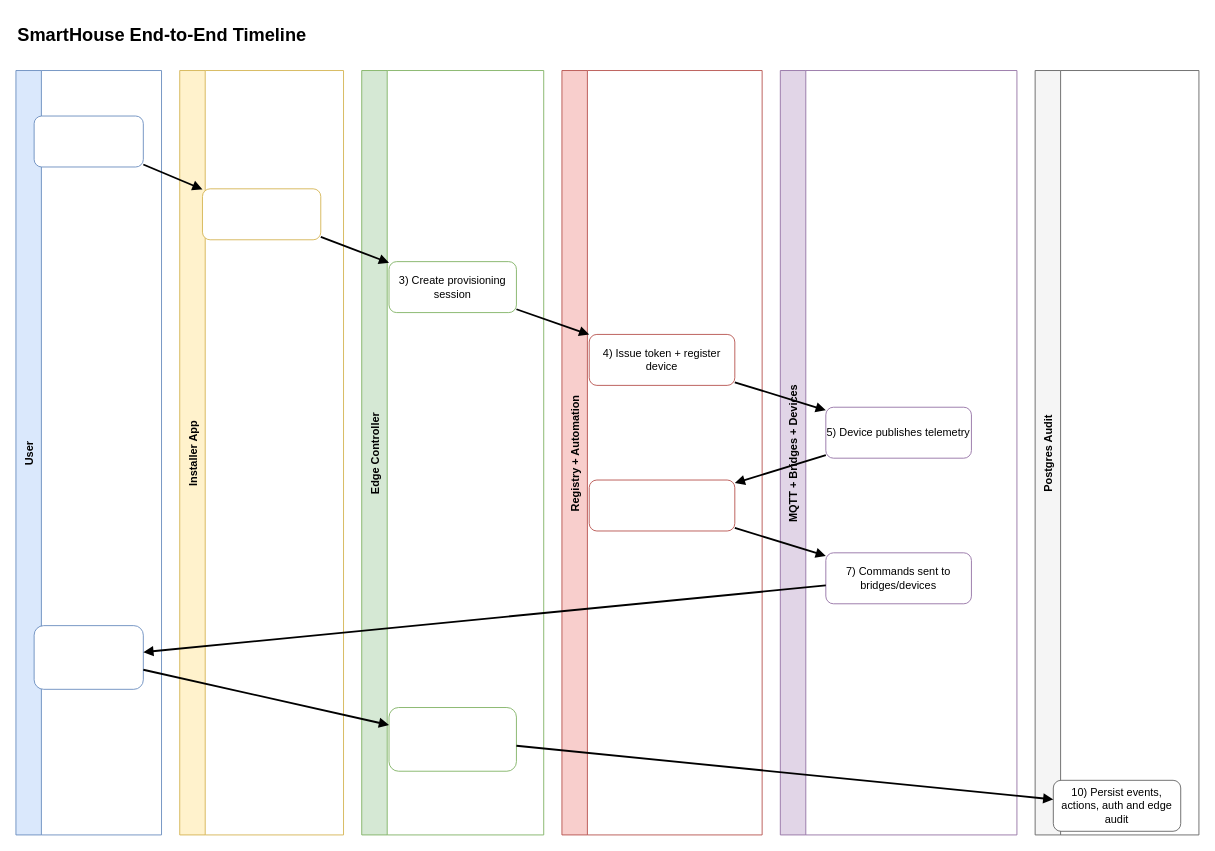
The diagram is 1215 pixels wide and 851 high, and some of its shapes have lost their labels. Each missing label, with the centre of its shape:
"1) Place order and choose package" goes at [88,141].
"2) Submit provisioning request" goes at [261,214].
"6) Evaluate rules and generate actions" goes at [661,505].
"8) User operates system (toggle/schedule)" goes at [88,657].
"9) Edge applies safety + maintenance guards" goes at [452,739].
